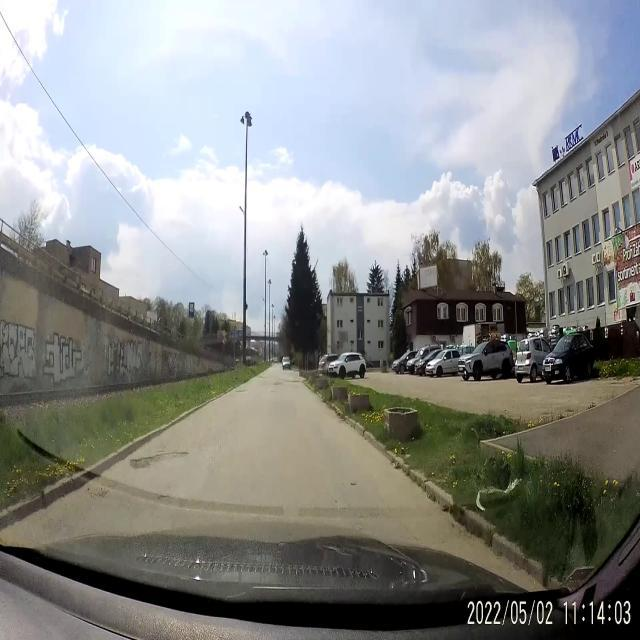Pothole: (128, 448, 188, 473), (156, 492, 172, 504), (234, 384, 247, 397)
